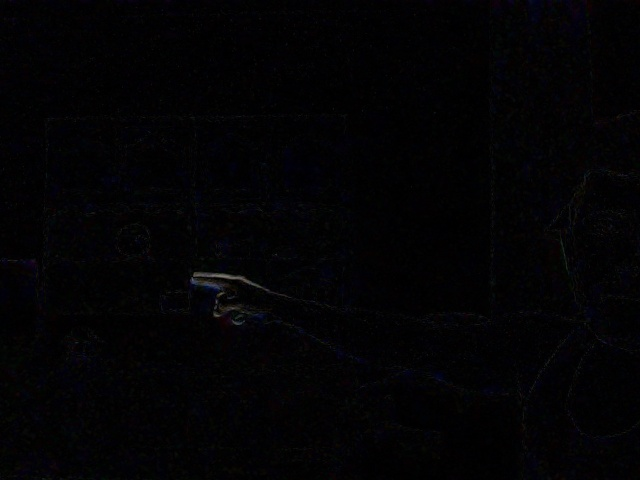hand_po: (177, 256, 270, 333)
